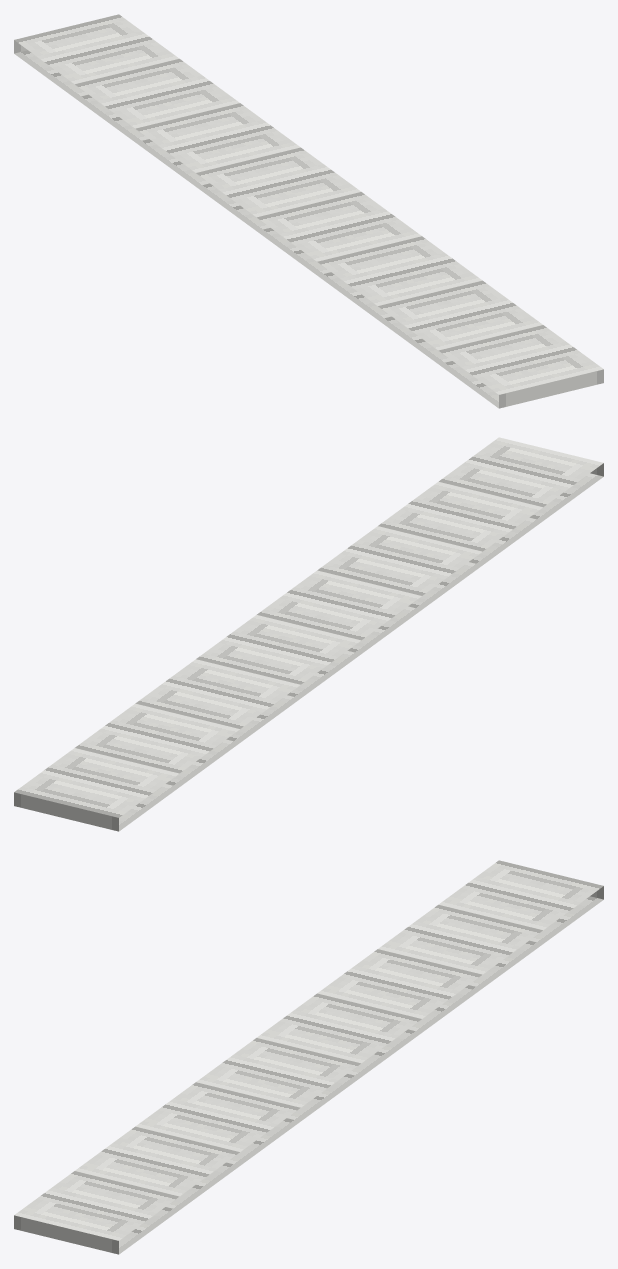
File: white_run_8.obj
3 renders of one model, top to bottom at view 1: azimuth 30°, elevation 25°; view 2: azimuth 150°, elevation 25°; view 3: azimuth 330°, elevation 25°, orthographic.
Parts seen in each view (by area): view 1: run; view 2: run; view 3: run.
Part boxes in pixels (x1,y1,x2,y2): run: (14,14,603,408); run: (14,437,603,831); run: (14,860,603,1254).
Size of the model in its own units: 1 by 0.125 by 8.
